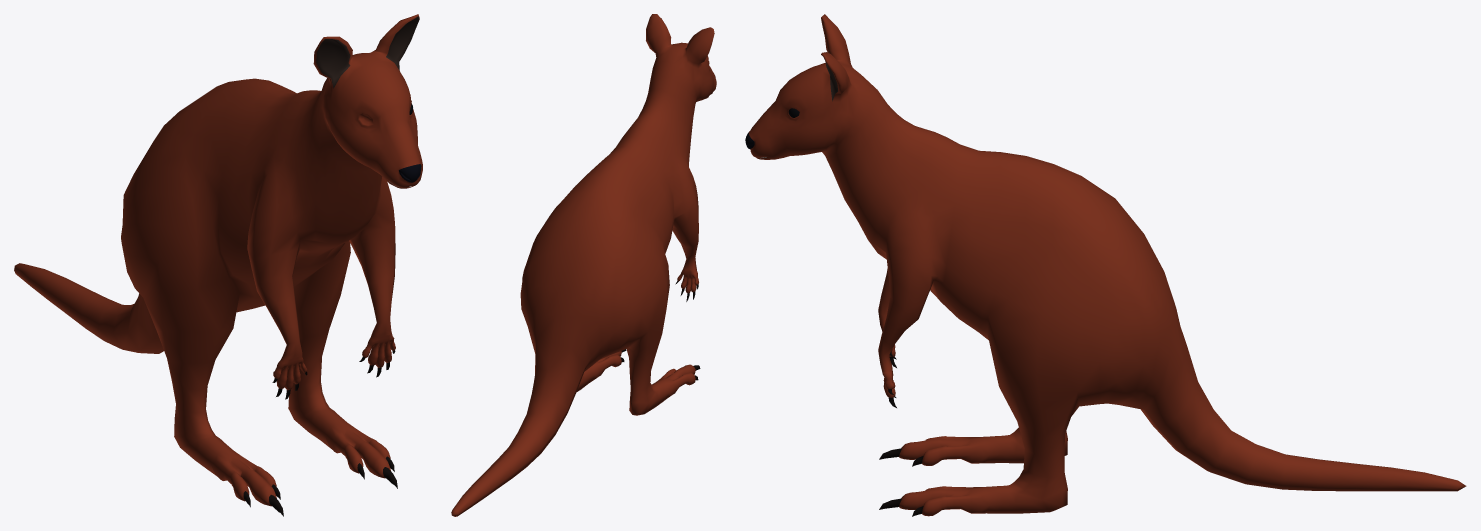
The model's file is wallaby.obj.
The picture shows the model from 3 angles, left to right: view 1: azimuth 30°, elevation 25°; view 2: azimuth 150°, elevation 25°; view 3: azimuth 270°, elevation 25°; orthographic projection. The views are drawn at different scales.
Parts seen in each view (by area): view 1: wallaby; view 2: wallaby; view 3: wallaby.
Part boxes in pixels (x1,y1,x2,y2): wallaby: (14, 14, 422, 516); wallaby: (451, 14, 716, 516); wallaby: (745, 14, 1466, 516).
Size of the model in its own units: 0.5161 by 1.34 by 1.92.
